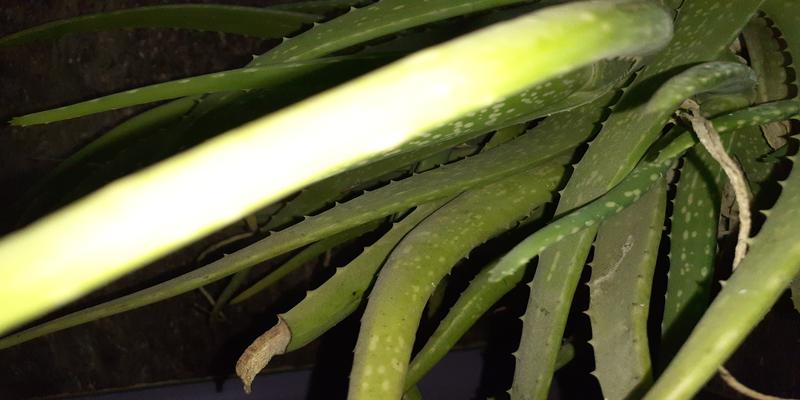Aloevera: (323, 14, 799, 384)
